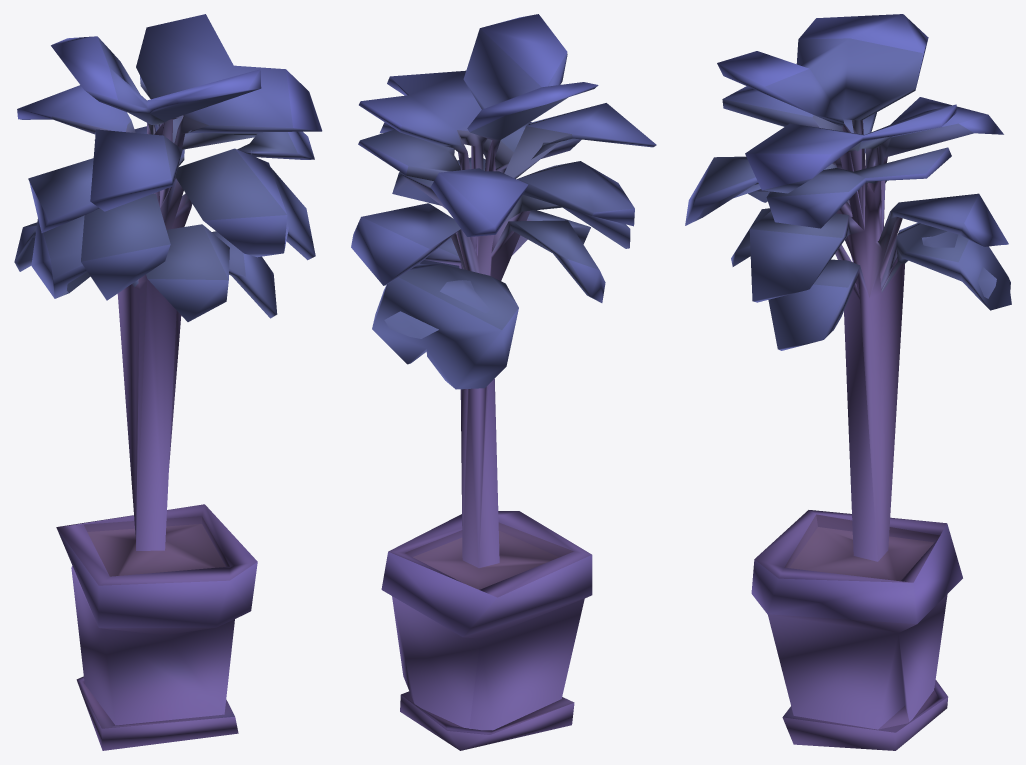
The model's file is model.progressive.glb.
The picture shows the model from 3 angles, left to right: view 1: azimuth 30°, elevation 25°; view 2: azimuth 150°, elevation 25°; view 3: azimuth 270°, elevation 25°; orthographic projection. The views are drawn at different scales.
Parts seen in each view (by area): view 1: OfficePlant1; view 2: OfficePlant1; view 3: OfficePlant1.
Part boxes in pixels (x1,y1,x2,y2): OfficePlant1: (14,14,322,750); OfficePlant1: (351,14,656,750); OfficePlant1: (685,14,1011,750).
Size of the model in its own units: 0.6288 by 1.53 by 0.6815.
Materials: 1 (1 with a texture image).
